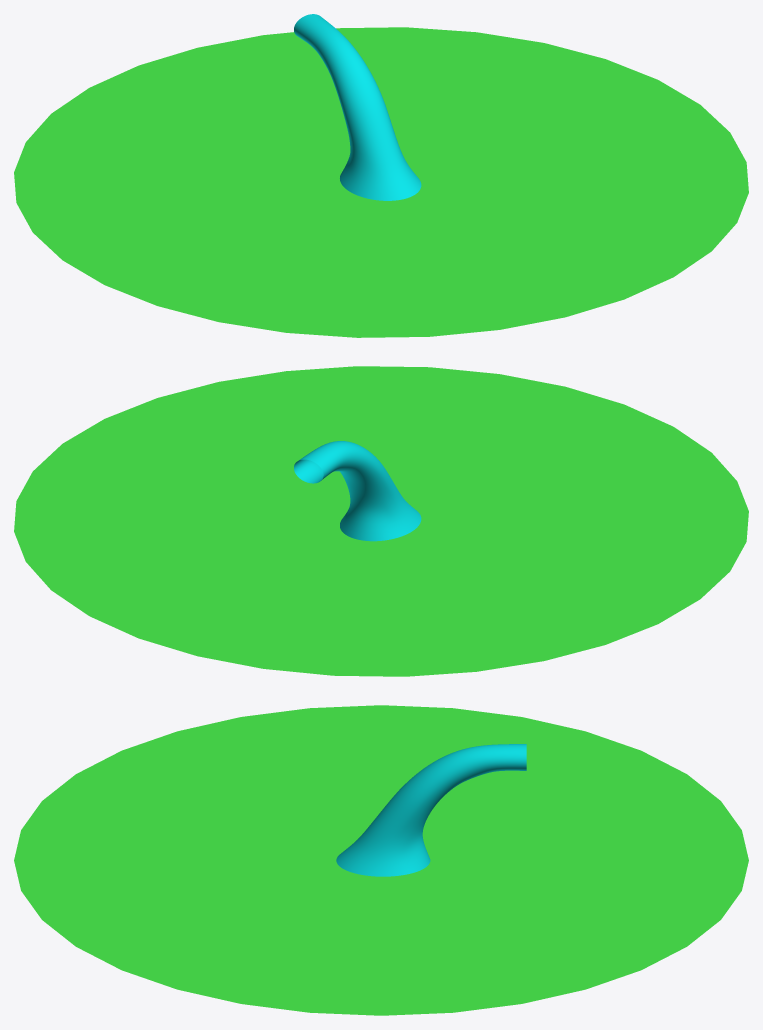
The model's file is ToxicWaterfall.fbx.
The picture shows the model from 3 angles, top to bottom: view 1: azimuth 30°, elevation 25°; view 2: azimuth 150°, elevation 25°; view 3: azimuth 270°, elevation 25°; orthographic projection.
Visible parts, largest first — view 1: ToxicWaterfall; view 2: ToxicWaterfall; view 3: ToxicWaterfall.
Part boxes in pixels (bbox=[...]): ToxicWaterfall: bbox=[14, 14, 748, 337]; ToxicWaterfall: bbox=[14, 366, 748, 676]; ToxicWaterfall: bbox=[14, 705, 748, 1015].
Size of the model in its own units: 699 by 121 by 699.
